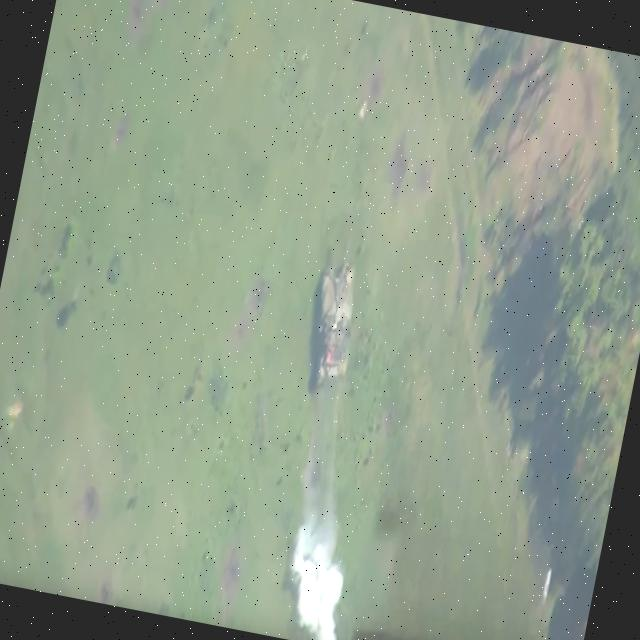MBT: (300, 232, 374, 396)
